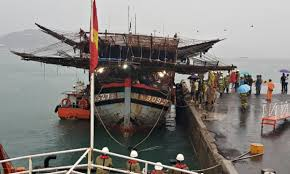tau_dansu: (32, 26, 196, 143)
